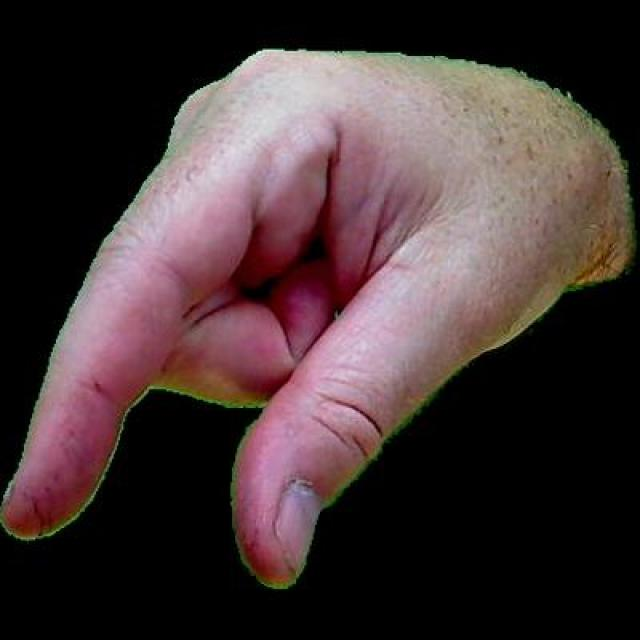q: (0, 22, 637, 598)
